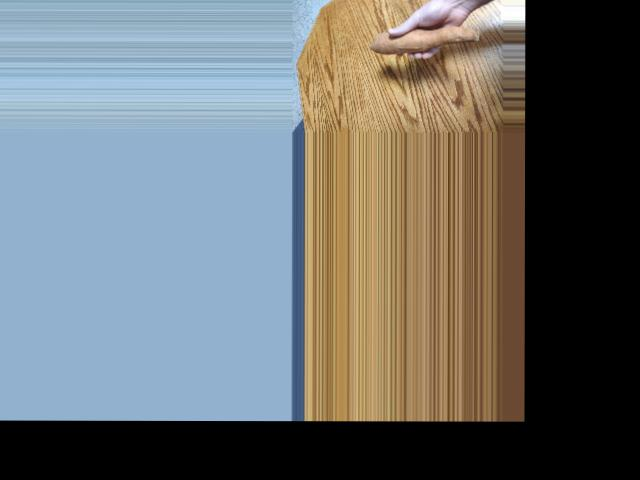sweet_potato: (367, 23, 484, 58)
